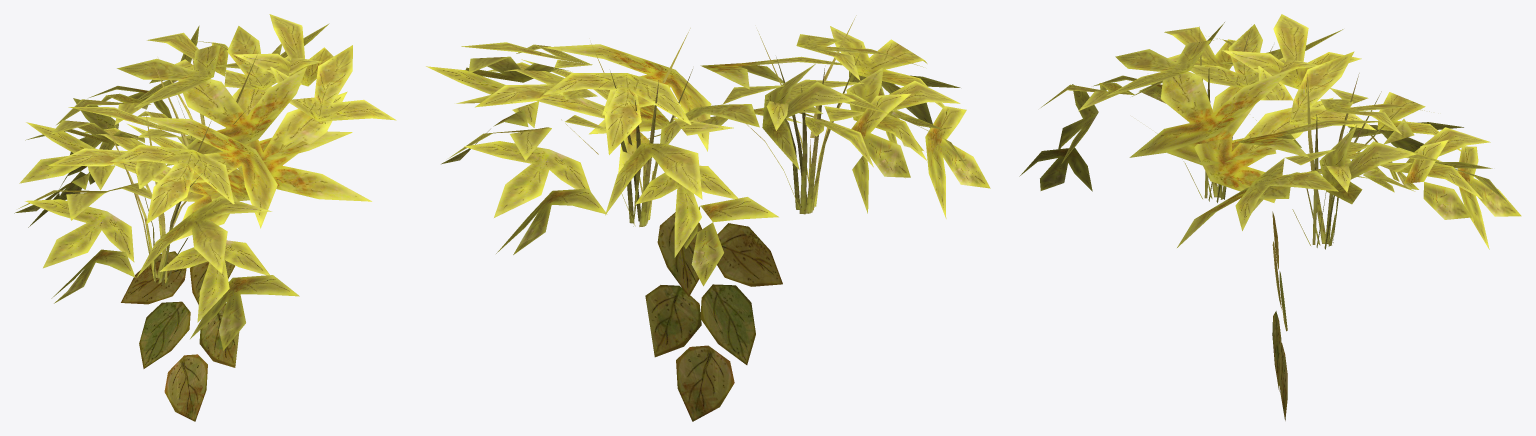
Rendered from plants.glb.
3 views of the same model, side by side, from view 1: azimuth 30°, elevation 25°; view 2: azimuth 150°, elevation 25°; view 3: azimuth 270°, elevation 25° (orthographic). The views are drawn at different scales.
Visible parts, largest first — view 1: Plants.Top, Plants.Hang; view 2: Plants.Top, Plants.Hang; view 3: Plants.Top, Plants.Hang.
Part boxes in pixels (x1,y1,x2,y2): Plants.Top: (14,14,396,350); Plants.Hang: (121,251,239,421); Plants.Top: (426,15,990,286); Plants.Hang: (645,212,782,421); Plants.Top: (1019,14,1521,249); Plants.Hang: (1272,211,1287,420).
Size of the model in its own units: 4.77 by 3.95 by 5.12.
Materials: 2 (2 with a texture image).
